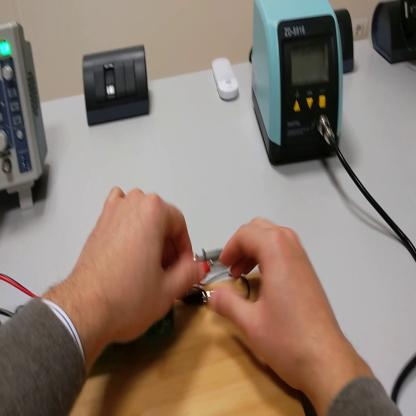hand: (209, 216, 338, 392), (82, 187, 206, 343)
high voltage board: (110, 299, 175, 354)
oscilloscope: (1, 24, 50, 214)
oscilloscope probe tip: (196, 243, 228, 267)
socket: (371, 2, 416, 67), (335, 11, 356, 79)
welder station: (253, 3, 346, 169)
working area: (71, 273, 305, 416)
